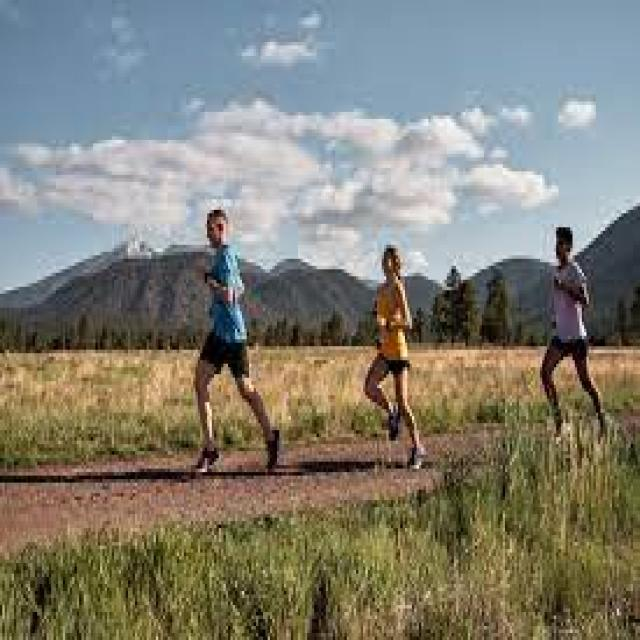running: (191, 202, 289, 482), (540, 221, 610, 439), (364, 244, 430, 475)
